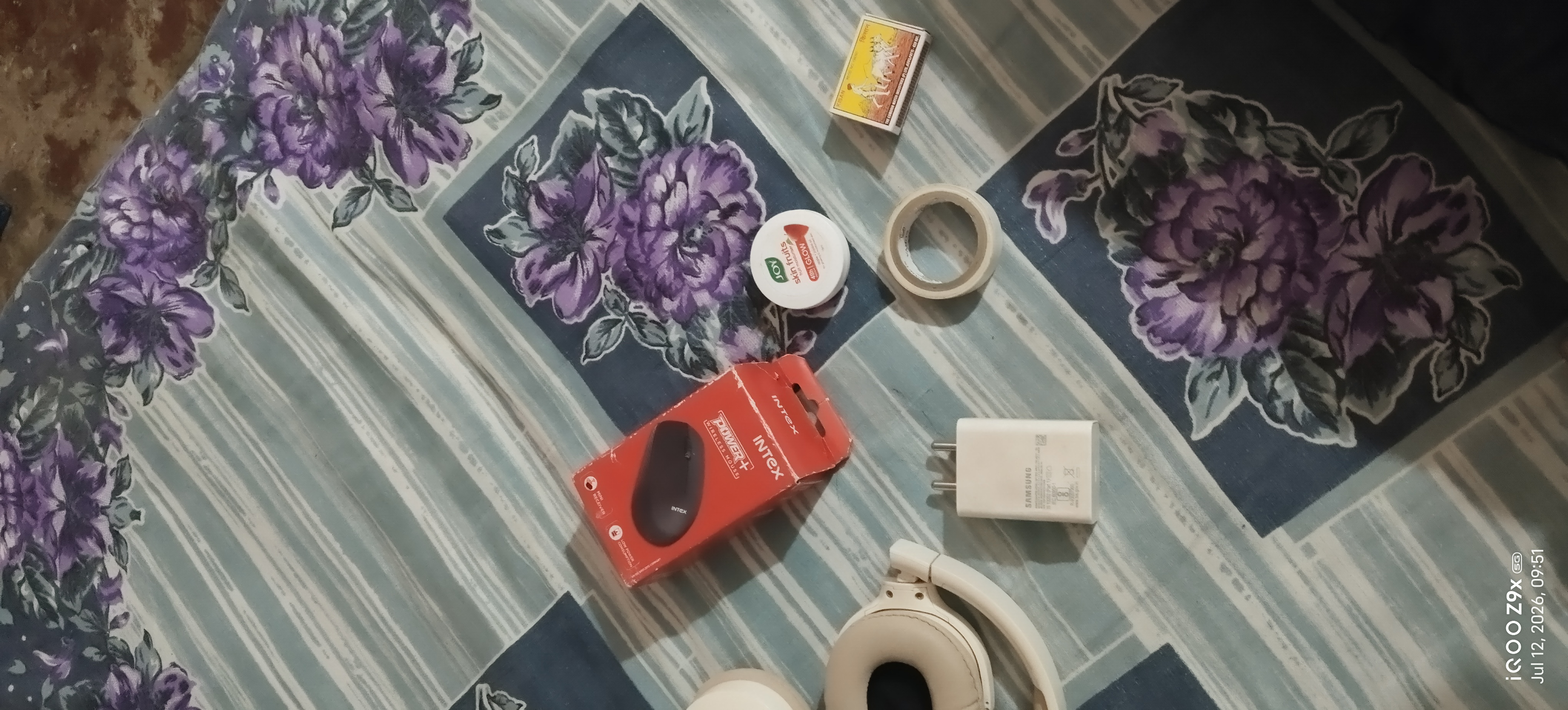charger: (920, 397, 1111, 548)
matchbox: (816, 6, 937, 145)
tape_roll: (869, 182, 1012, 321)
